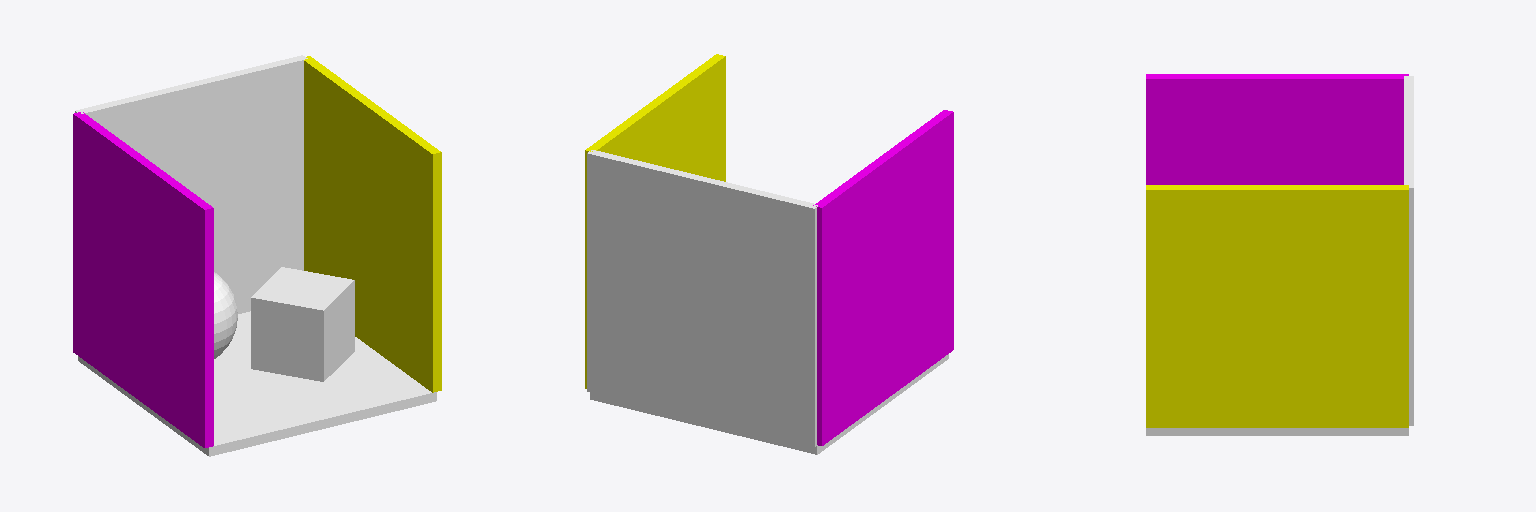
The model's file is spherecube.obj.
3 views of the same model, side by side, from view 1: azimuth 30°, elevation 25°; view 2: azimuth 150°, elevation 25°; view 3: azimuth 270°, elevation 25° (orthographic).
Visible parts, largest first — view 1: Cube_Cube.001, Cube.001_Cube.002, Cube.002_Cube.003, Cube.003_Cube.004, Sphere; view 2: Cube.002_Cube.003, Cube_Cube.001, Cube.001_Cube.002, Cube.003_Cube.004; view 3: Cube.001_Cube.002, Cube_Cube.001, Cube.002_Cube.003, Cube.003_Cube.004.
Boxes of the visible parts, <box> form: Cube_Cube.001: <box>73,112,354,447</box>; Cube.001_Cube.002: <box>304,56,441,392</box>; Cube.002_Cube.003: <box>75,55,307,313</box>; Cube.003_Cube.004: <box>78,311,436,456</box>; Sphere: <box>214,272,237,358</box>; Cube.002_Cube.003: <box>587,150,817,446</box>; Cube_Cube.001: <box>813,110,953,445</box>; Cube.001_Cube.002: <box>585,54,725,388</box>; Cube.003_Cube.004: <box>590,354,948,454</box>; Cube.001_Cube.002: <box>1146,185,1408,427</box>; Cube_Cube.001: <box>1146,74,1408,184</box>; Cube.002_Cube.003: <box>1404,76,1413,425</box>; Cube.003_Cube.004: <box>1146,428,1408,435</box>.
Size of the model in its own units: 10.4 by 10.4 by 10.2.